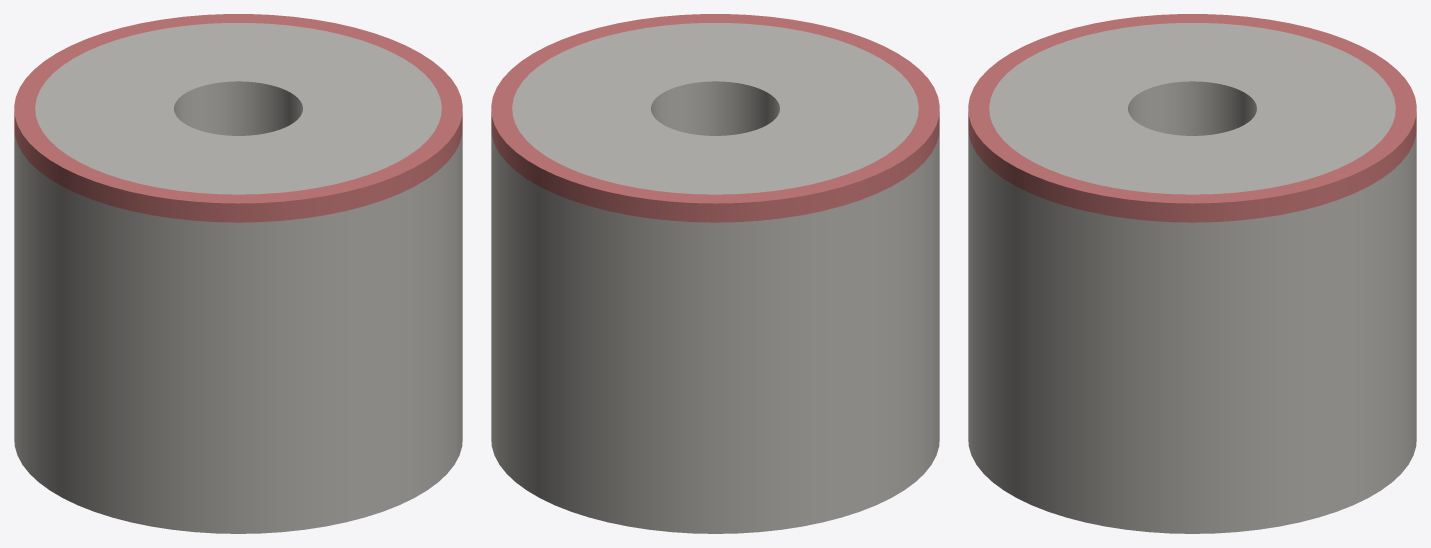
Rendered from step_02.glb.
3 renders of one model, left to right at view 1: azimuth 30°, elevation 25°; view 2: azimuth 150°, elevation 25°; view 3: azimuth 270°, elevation 25°, orthographic.
Visible parts, largest first — view 1: part__ballast ring, removed__ballast ring; view 2: part__ballast ring, removed__ballast ring; view 3: part__ballast ring, removed__ballast ring.
Part boxes in pixels (left/top/right/bottom): part__ballast ring: left=14, top=23, right=462, bottom=533; removed__ballast ring: left=14, top=14, right=462, bottom=222; part__ballast ring: left=491, top=23, right=939, bottom=533; removed__ballast ring: left=491, top=14, right=939, bottom=222; part__ballast ring: left=968, top=23, right=1416, bottom=533; removed__ballast ring: left=968, top=14, right=1416, bottom=222.
Bounding box in the file's own units: 320 × 260 × 320.
